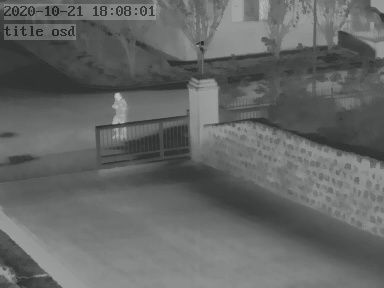person: (109, 90, 126, 138)
